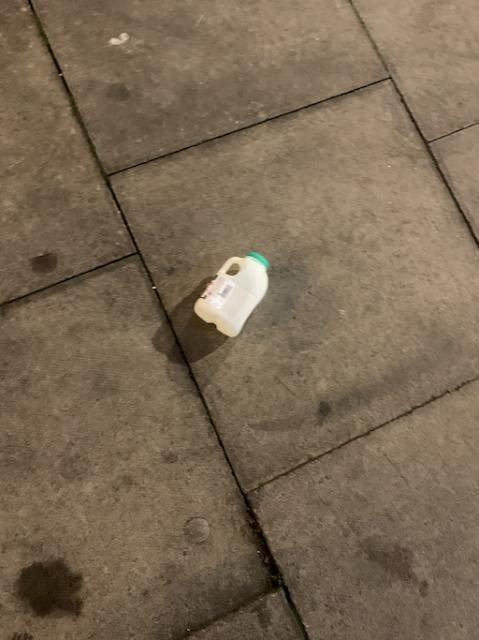plastic: (193, 251, 267, 335)
